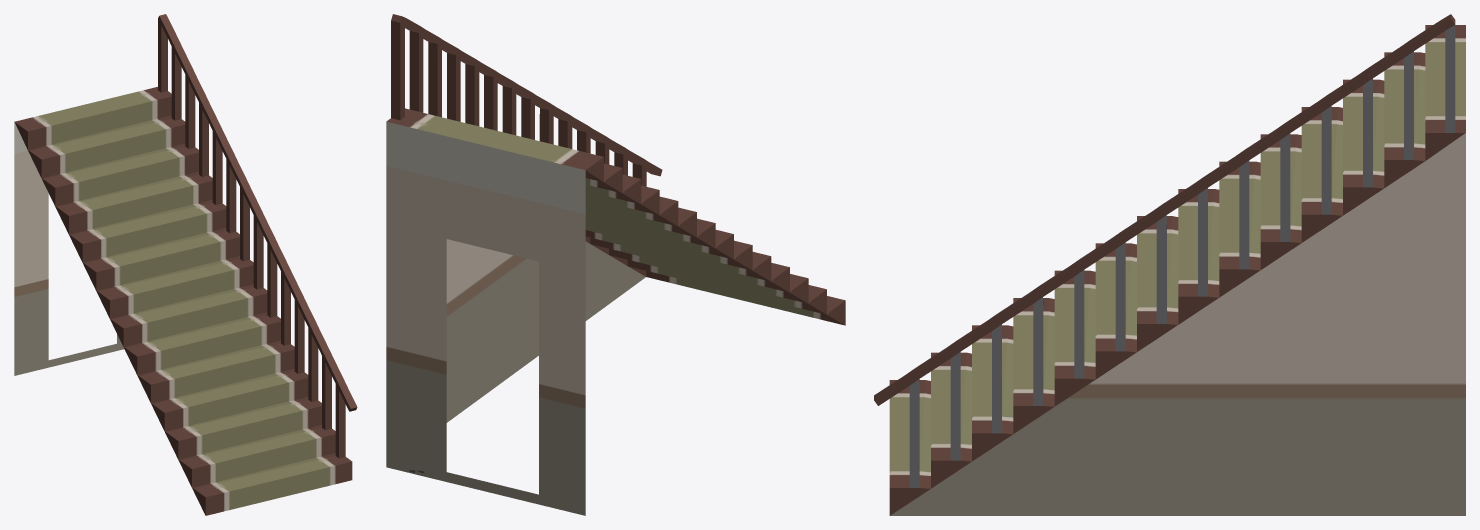
The model's file is m_Steps_typeA.fbx.
3 views of the same model, side by side, from view 1: azimuth 30°, elevation 25°; view 2: azimuth 150°, elevation 25°; view 3: azimuth 270°, elevation 25° (orthographic). The views are drawn at different scales.
Parts seen in each view (by area): view 1: Steps2; view 2: Steps2; view 3: Steps2.
Boxes of the visible parts, bbox=[...] form: Steps2: bbox=[14, 14, 357, 515]; Steps2: bbox=[386, 14, 845, 515]; Steps2: bbox=[874, 14, 1465, 515].
Bounding box in the file's own units: 174 × 374 × 403.
